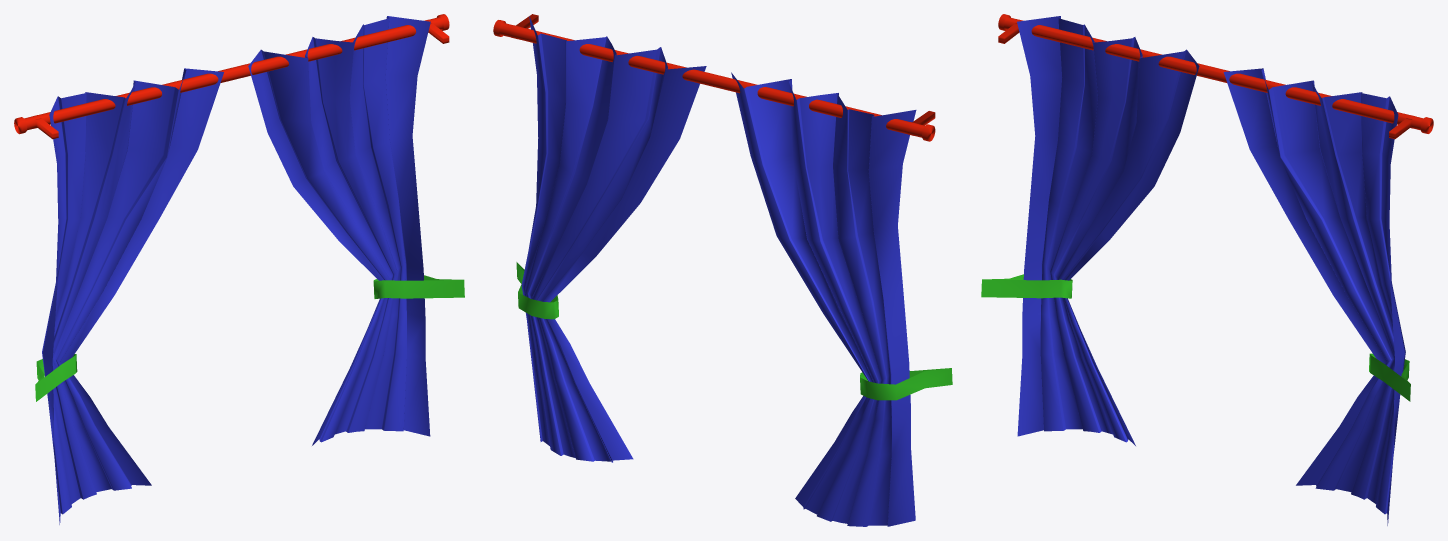
The model's file is Curtains.fbx.
The picture shows the model from 3 angles, left to right: view 1: azimuth 30°, elevation 25°; view 2: azimuth 150°, elevation 25°; view 3: azimuth 330°, elevation 25°; orthographic projection.
Visible parts, largest first — view 1: Curtains, Curtain Pipe, Curtain holder; view 2: Curtains, Curtain Pipe, Curtain holder; view 3: Curtains, Curtain Pipe, Curtain holder.
Boxes of the visible parts, x1,y1,x2,y2 form: Curtains: [42, 16, 430, 524]; Curtain Pipe: [14, 14, 449, 139]; Curtain holder: [35, 275, 464, 401]; Curtains: [521, 16, 916, 526]; Curtain Pipe: [493, 14, 935, 141]; Curtain holder: [516, 262, 952, 400]; Curtains: [1017, 16, 1405, 525]; Curtain Pipe: [998, 14, 1433, 138]; Curtain holder: [981, 274, 1410, 401].
Size of the model in its own units: 3.42 by 3.12 by 0.4216.
